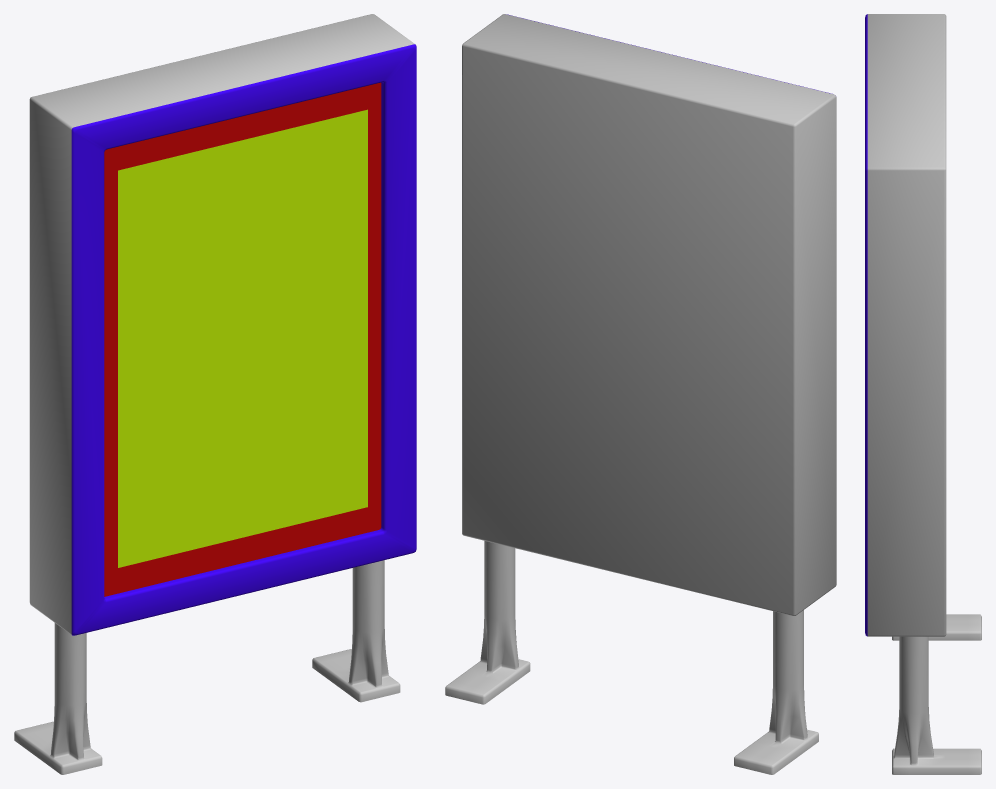
Rendered from bill_bord_01.glb.
3 renders of one model, left to right at view 1: azimuth 30°, elevation 25°; view 2: azimuth 150°, elevation 25°; view 3: azimuth 270°, elevation 25°, orthographic. The views are drawn at different scales.
Parts seen in each view (by area): view 1: BannerPlane001, Frame, Body, poster, Base; view 2: Body, Base; view 3: Body, Base, Frame.
Part boxes in pixels (box(x1,y1,x2,y2)): BannerPlane001: box(118, 109, 367, 567); Frame: box(71, 44, 416, 635); Body: box(29, 14, 415, 634); poster: box(104, 82, 381, 596); Base: box(14, 560, 400, 774); Body: box(462, 14, 836, 615); Base: box(445, 541, 818, 774); Body: box(867, 14, 946, 636); Base: box(892, 614, 981, 774); Frame: box(865, 14, 867, 636).
Size of the model in its own units: 12.55 by 22.88 by 3.99.
